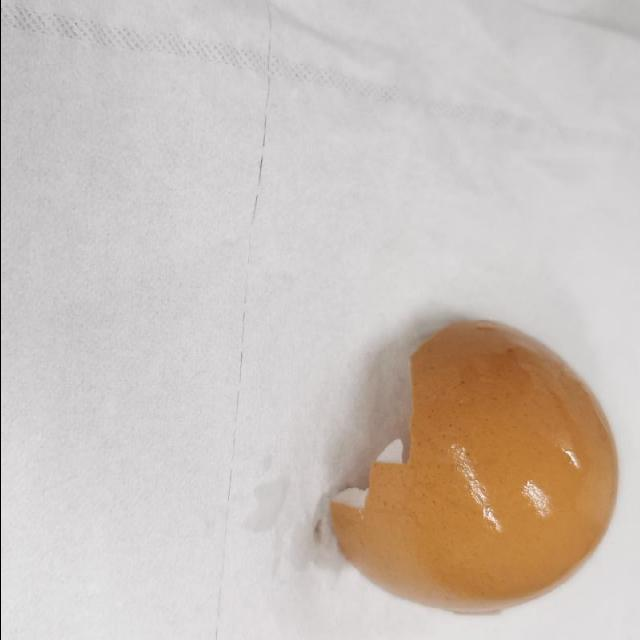egg shell: (327, 319, 619, 619)
